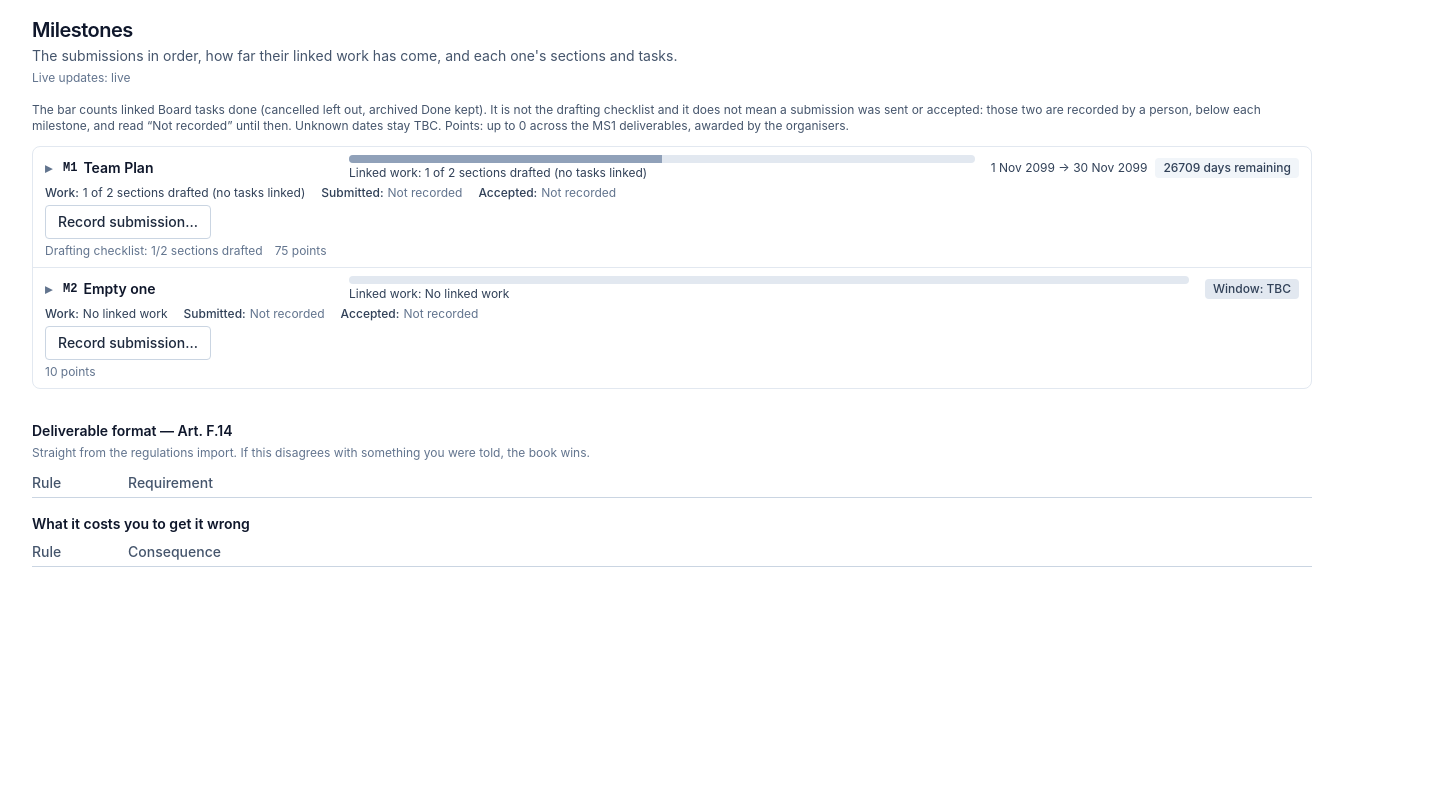
Test case: Milestones: work, submission and acceptance are three facts › refuses an acceptance before the submission, or without one, before anything is sent
This screenshot has width=1440, height=810.
Click the button with test id "submission-edit-M1": (128, 222) [45,205,211,239]
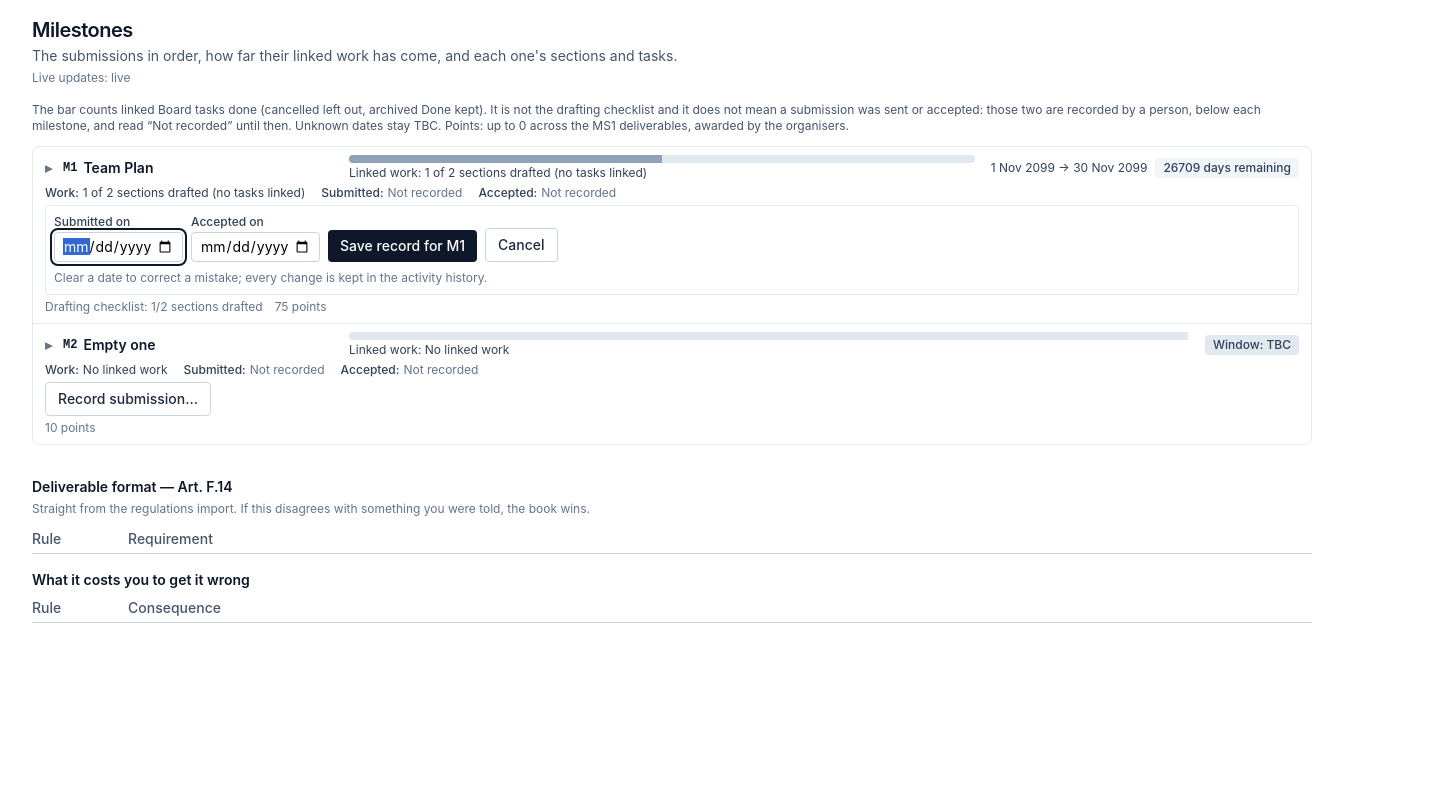
In the date field labelled "Accepted on": (256, 247) [191,232,320,262], type "2020-01-12"
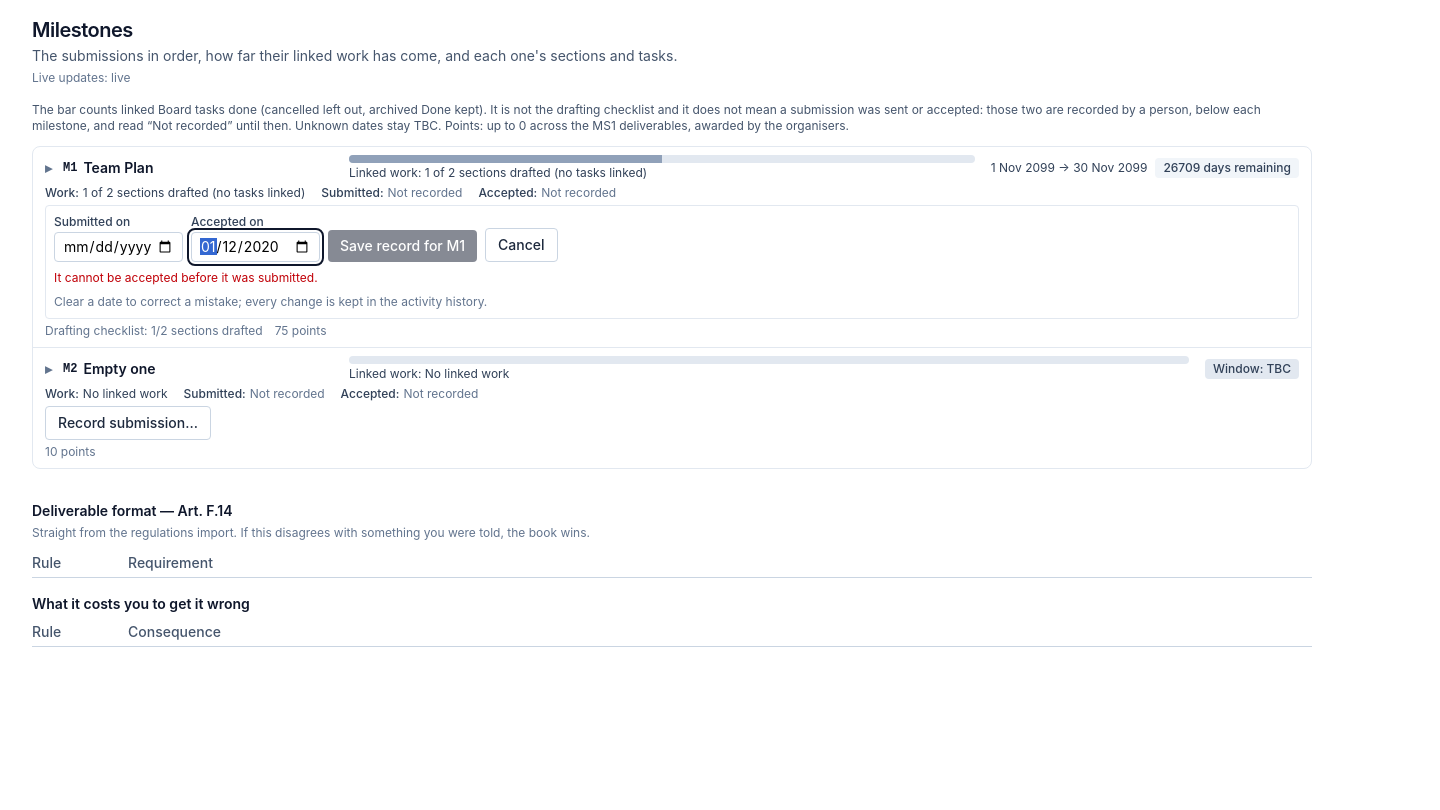
Expected: the message with test id "submission-problem-M1" shows "before it was submitted", [54,270,318,285]
Expected: the button "Save record for M1" is disabled, [328,230,477,262]
In the date field labelled "Submitted on": (118, 247) [54,232,183,262], type "2020-01-14"
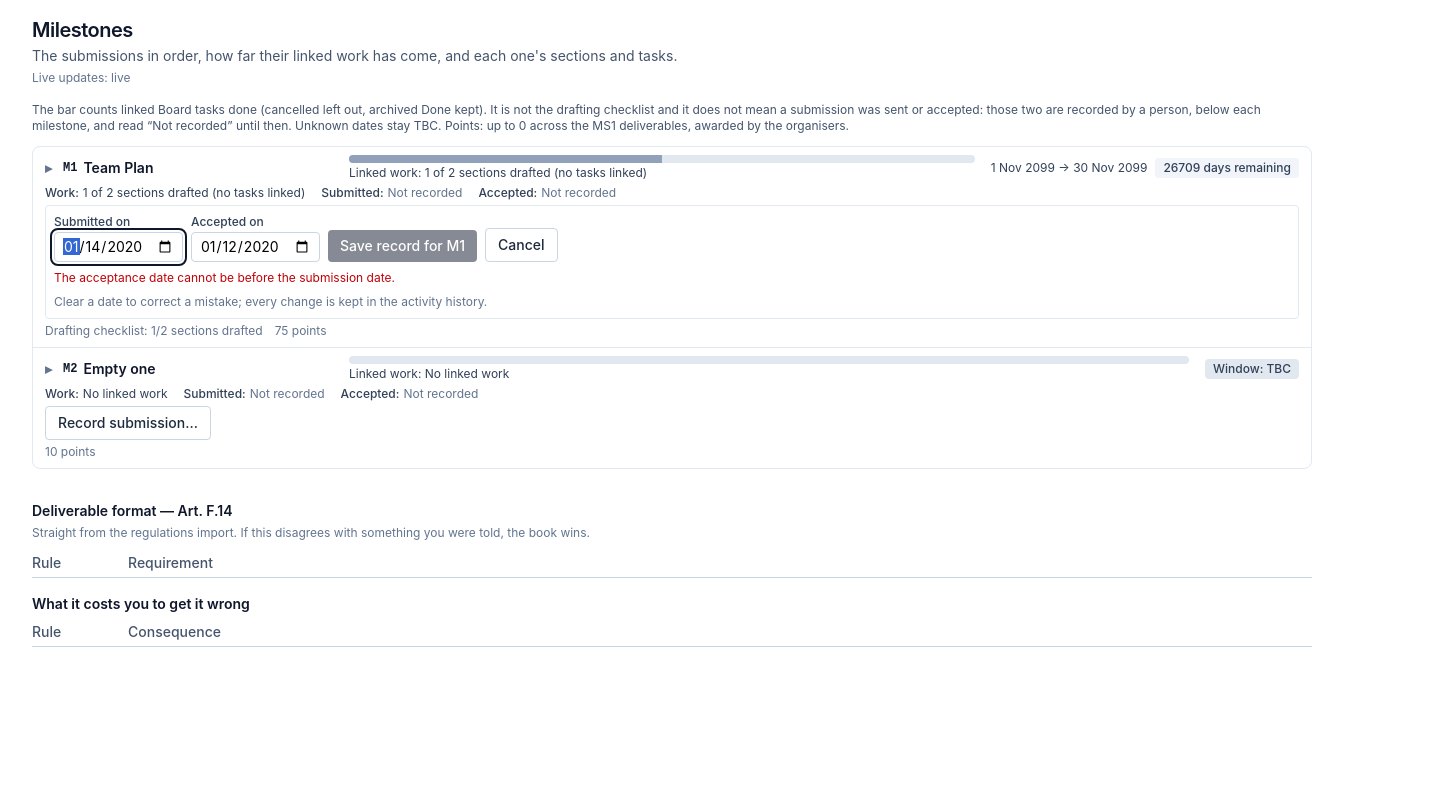
Expected: the message with test id "submission-problem-M1" shows "cannot be before the submission date", [54,270,395,285]
